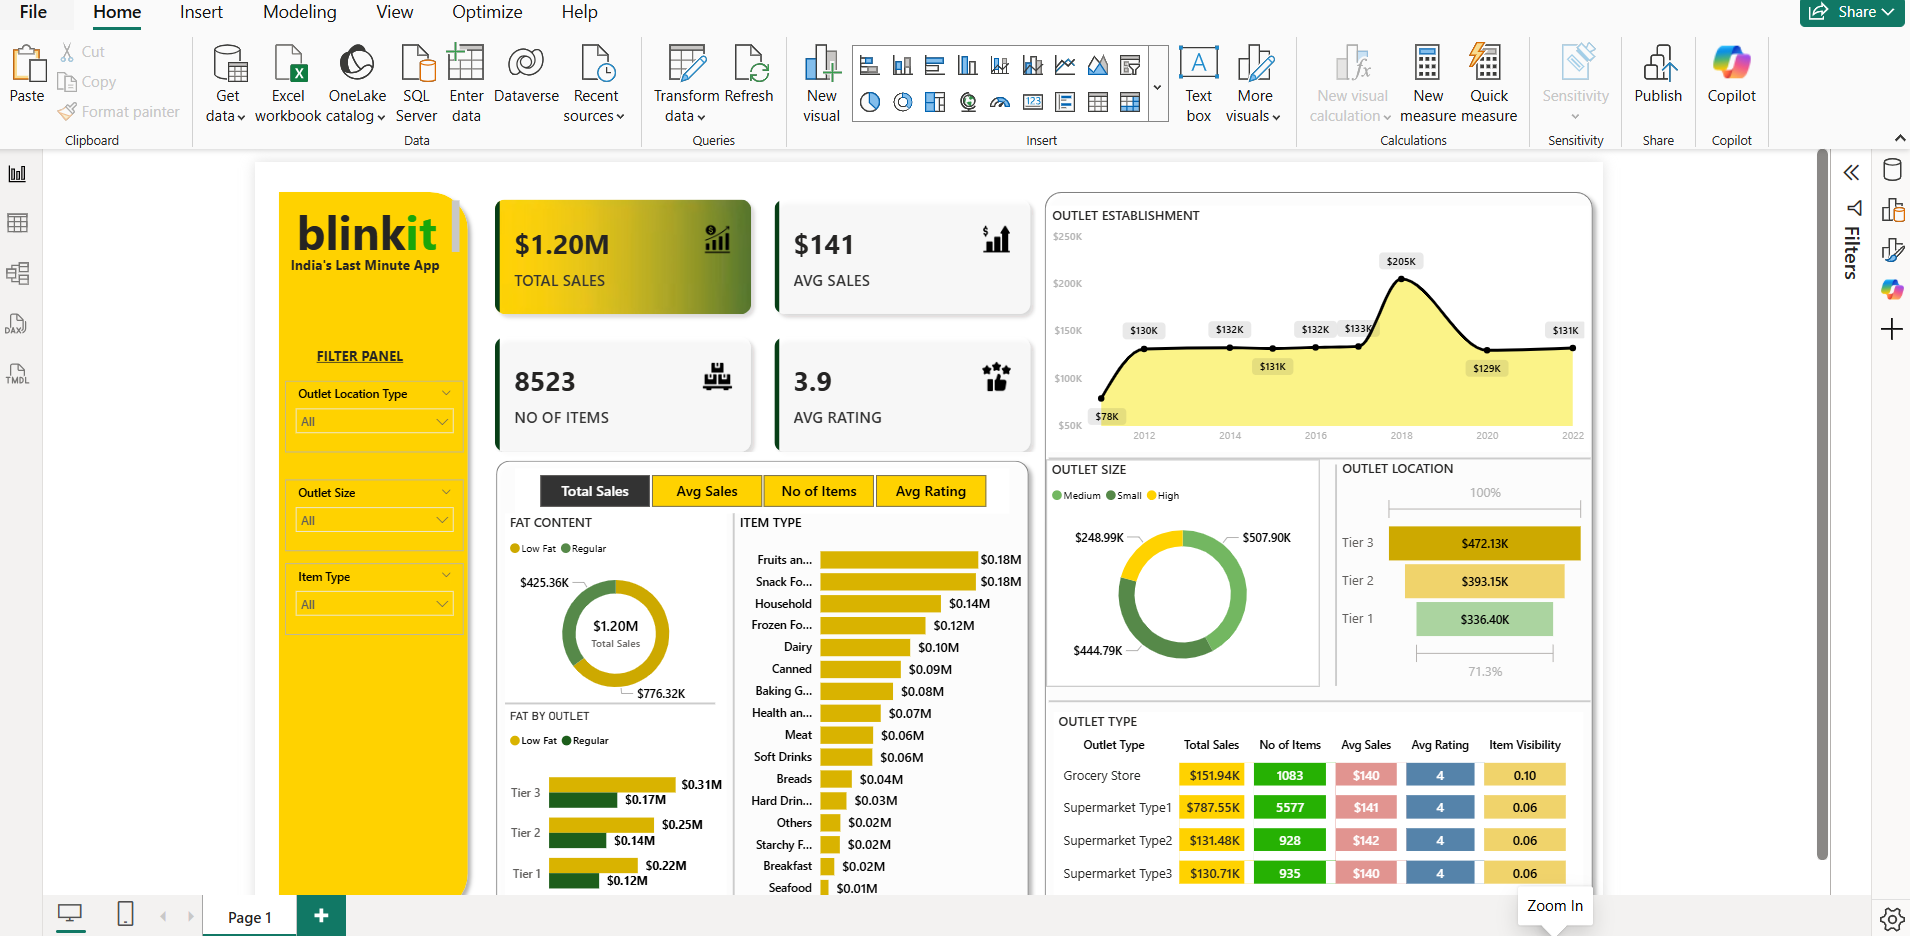

The dashboard page shown, as its layout file describes it:
{"tool":"powerbi","page":{"name":"Page 1","canvas":[1400,800],"ordinal":0},"visuals":[{"type":"shape","box":[16.1,21.4,214.5,765.4],"z":0},{"type":"textbox","box":[21.4,34.9,195.7,68.4],"z":1000},{"type":"textbox","box":[21.4,92.5,185,32.2],"z":2000},{"type":"cardVisual","fields":{"Data":["BlinkIT Grocery Data.Total Sales","BlinkIT Grocery Data.Avg Sales","BlinkIT Grocery Data.No of Items","BlinkIT Grocery Data.Avg Rating"]},"box":[231.9,21.4,590,296.2],"z":3000},{"type":"shape","box":[241.4,301.4,571.2,486],"z":4000},{"type":"donutChart","title":"FAT CONTENT","fields":{"Y":["BlinkIT Grocery Data.Total Sales"],"Category":["BlinkIT Grocery Data.Item Fat Content"]},"box":[260.1,364.6,230.6,205.1],"z":5000},{"type":"slicer","fields":{"Values":["Metrics.Metrics"]},"box":[270.8,317.7,513.4,46.9],"z":6000},{"type":"cardVisual","fields":{"Data":["BlinkIT Grocery Data.Total Sales"]},"box":[301.6,454.4,147.5,61.7],"z":7000},{"type":"clusteredBarChart","title":"FAT BY OUTLET","fields":{"Y":["BlinkIT Grocery Data.Total Sales"],"Category":["BlinkIT Grocery Data.Outlet Location Type"],"Series":["BlinkIT Grocery Data.Item Fat Content"]},"box":[260.1,568.4,230.6,209.1],"z":8000},{"type":"shape","box":[260.1,556.3,218.5,13.4],"z":9000},{"type":"shape","box":[478.6,364.6,38.9,403.5],"z":10000},{"type":"barChart","title":"ITEM TYPE","fields":{"Y":["BlinkIT Grocery Data.Total Sales"],"Category":["BlinkIT Grocery Data.Item Type"]},"box":[498.7,364.5,303,413.4],"z":11000},{"type":"shape","box":[812.3,21.4,587.1,766.8],"z":12000},{"type":"lineChart","title":"OUTLET ESTABLISHMENT","fields":{"Y":["BlinkIT Grocery Data.Total Sales"],"Category":["BlinkIT Grocery Data.Outlet Establishment Year"]},"box":[823.1,45.6,563,256],"z":13000},{"type":"shape","box":[824.4,301.6,563,13.4],"z":14000},{"type":"donutChart","title":"OUTLET SIZE","fields":{"Y":["BlinkIT Grocery Data.Total Sales"],"Category":["BlinkIT Grocery Data.Outlet Size"]},"box":[821.4,308.6,284.3,235.7],"z":15000},{"type":"shape","box":[1104.3,314.3,38.6,230],"z":16000},{"type":"funnel","title":"OUTLET LOCATION","fields":{"Category":["BlinkIT Grocery Data.Outlet Location Type"],"Y":["BlinkIT Grocery Data.Total Sales"]},"box":[1124.3,308.6,262.9,235.7],"z":17000},{"type":"shape","box":[824.3,554.3,562.9,11.4],"z":18000},{"type":"pivotTable","title":"OUTLET TYPE","fields":{"Rows":["BlinkIT Grocery Data.Outlet Type"],"Values":["BlinkIT Grocery Data.Total Sales","BlinkIT Grocery Data.No of Items","BlinkIT Grocery Data.Avg Sales","BlinkIT Grocery Data.Avg Rating","Avg(BlinkIT Grocery Data.Item Visibility)"]},"box":[830,571.4,550,211.4],"z":19000},{"type":"slicer","fields":{"Values":["BlinkIT Grocery Data.Outlet Location Type"]},"box":[31.4,227.1,185.7,74.3],"z":20000},{"type":"slicer","fields":{"Values":["BlinkIT Grocery Data.Outlet Size"]},"box":[31.4,330,185.7,74.3],"z":21000},{"type":"slicer","fields":{"Values":["BlinkIT Grocery Data.Item Type"]},"box":[31.4,417.1,185.7,74.3],"z":22000},{"type":"textbox","box":[31.4,187.1,155.7,40],"z":23000}]}

Visuals, with their boxes on the page's 1400x800 design canvas (x1, y1, x2, y2). These are canvas units, not pixel positions in the 1910x936 screenshot, which may show the page scaled, cropped or inside an application window:
shape: 16,21,231,787
textbox: 21,35,217,103
textbox: 21,92,206,125
cardVisual - BlinkIT Grocery Data.Total Sales x BlinkIT Grocery Data.Avg Sales: 232,21,822,318
shape: 241,301,813,787
"FAT CONTENT" donutChart: 260,365,491,570
slicer - Metrics.Metrics: 271,318,784,365
cardVisual - BlinkIT Grocery Data.Total Sales: 302,454,449,516
"FAT BY OUTLET" clusteredBarChart: 260,568,491,778
shape: 260,556,479,570
shape: 479,365,518,768
"ITEM TYPE" barChart: 499,364,802,778
shape: 812,21,1399,788
"OUTLET ESTABLISHMENT" lineChart: 823,46,1386,302
shape: 824,302,1387,315
"OUTLET SIZE" donutChart: 821,309,1106,544
shape: 1104,314,1143,544
"OUTLET LOCATION" funnel: 1124,309,1387,544
shape: 824,554,1387,566
"OUTLET TYPE" pivotTable: 830,571,1380,783
slicer - BlinkIT Grocery Data.Outlet Location Type: 31,227,217,301
slicer - BlinkIT Grocery Data.Outlet Size: 31,330,217,404
slicer - BlinkIT Grocery Data.Item Type: 31,417,217,491
textbox: 31,187,187,227
